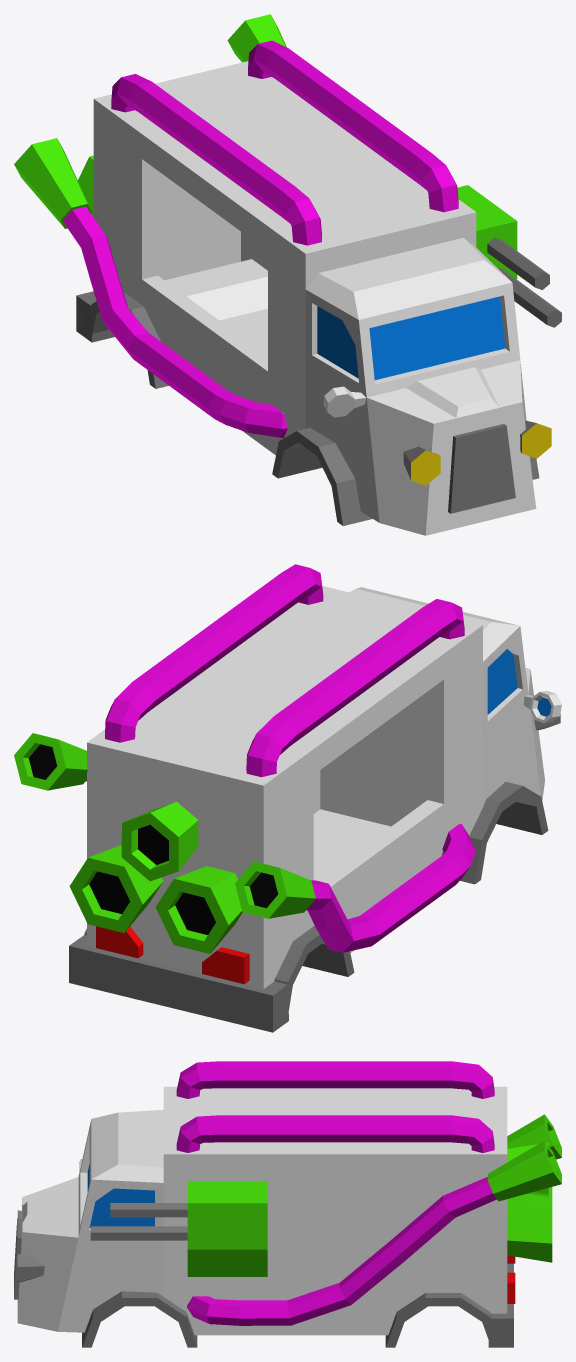
The model's file is Merchant.fbx.
3 renders of one model, top to bottom at view 1: azimuth 30°, elevation 25°; view 2: azimuth 150°, elevation 25°; view 3: azimuth 270°, elevation 25°, orthographic. The views are drawn at different scales.
Visible parts, largest first — view 1: Cube; view 2: Cube; view 3: Cube.
Boxes of the visible parts, <box> form: Cube: <box>14,14,561,535</box>; Cube: <box>14,564,561,1032</box>; Cube: <box>14,1061,561,1347</box>.
Bounding box in the file's own units: 325 × 300 × 686.
